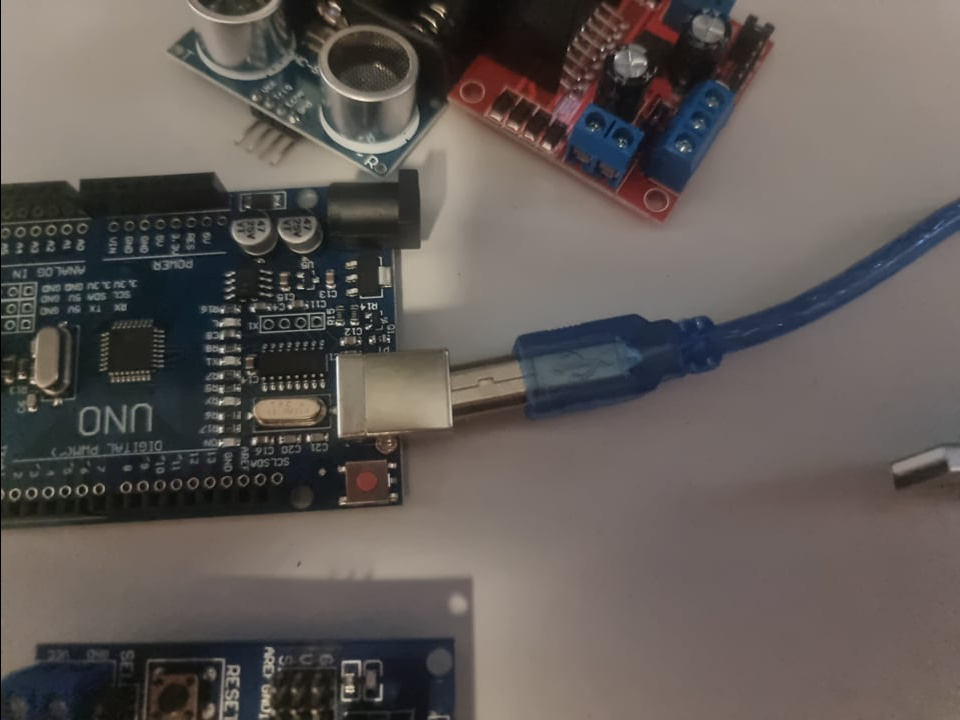5V EXPANSION: (0, 638, 464, 720)
MOTOR: (447, 1, 787, 222)
SENSOR: (165, 1, 444, 172)
UNO R3: (0, 169, 452, 544)
